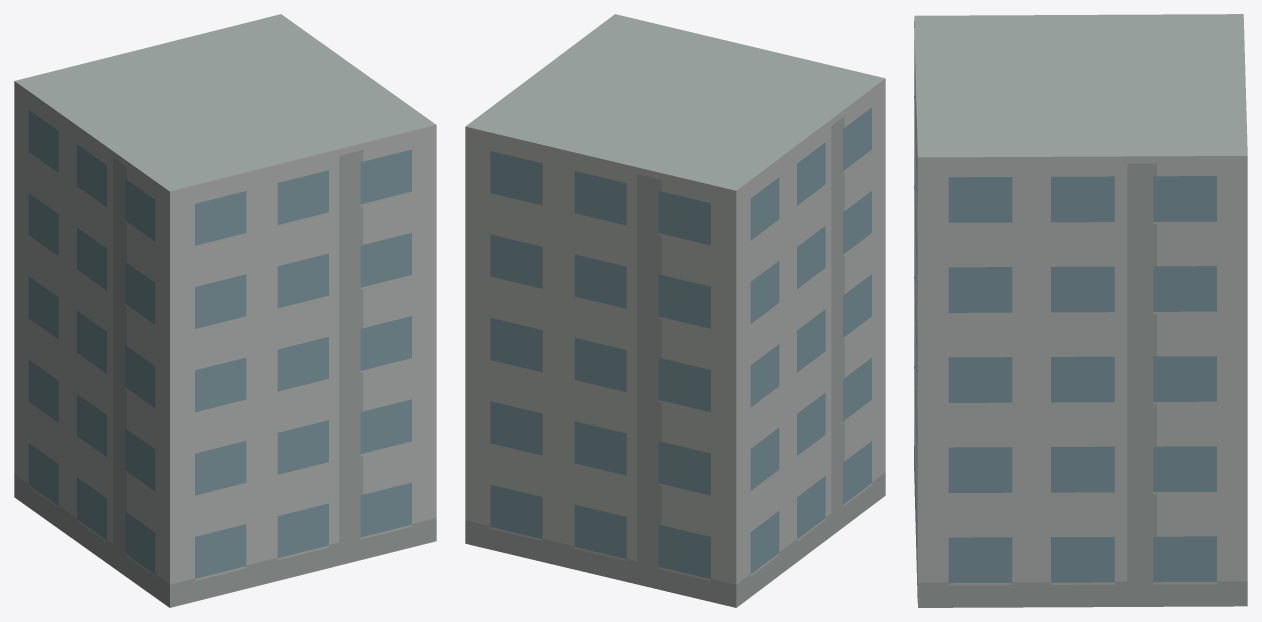
File: survey-upis-32805830.glb
3 renders of one model, left to right at view 1: azimuth 30°, elevation 25°; view 2: azimuth 150°, elevation 25°; view 3: azimuth 270°, elevation 25°, orthographic. The views are drawn at different scales.
Parts seen in each view (by area): view 1: survey-upis-32805830.tmp; view 2: survey-upis-32805830.tmp; view 3: survey-upis-32805830.tmp.
Part boxes in pixels (left/top/right/bottom): survey-upis-32805830.tmp: left=14, top=14, right=436, bottom=607; survey-upis-32805830.tmp: left=465, top=14, right=885, bottom=607; survey-upis-32805830.tmp: left=914, top=14, right=1247, bottom=607.
Bounding box in the file's own units: 10.42 × 15.25 × 10.25.
